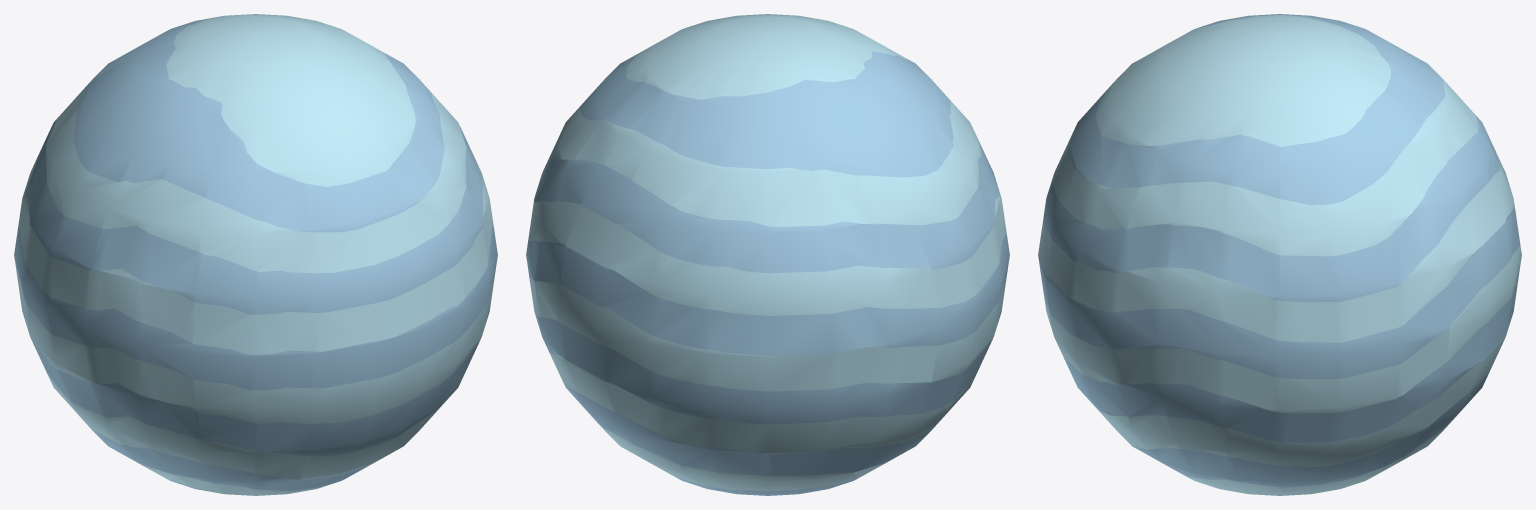
Rendered from Stripes - bleu.fbx.
The picture shows the model from 3 angles, left to right: view 1: azimuth 30°, elevation 25°; view 2: azimuth 150°, elevation 25°; view 3: azimuth 270°, elevation 25°; orthographic projection.
Visible parts, largest first — view 1: SketchUp.001; view 2: SketchUp.001; view 3: SketchUp.001.
Part boxes in pixels (x1=…): SketchUp.001: x1=14, y1=14, x2=497, y2=495; SketchUp.001: x1=526, y1=14, x2=1009, y2=495; SketchUp.001: x1=1038, y1=14, x2=1521, y2=495.
Bounding box in the file's own units: 100 × 100 × 100.
